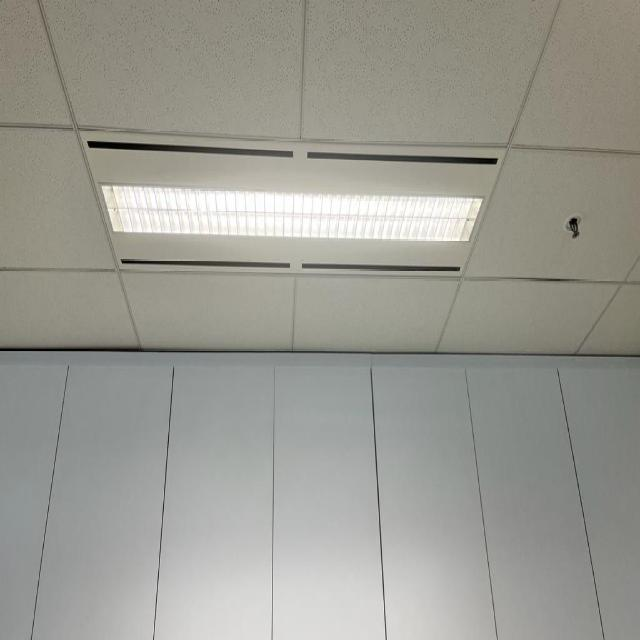Light-Opened: (75, 126, 508, 281)
